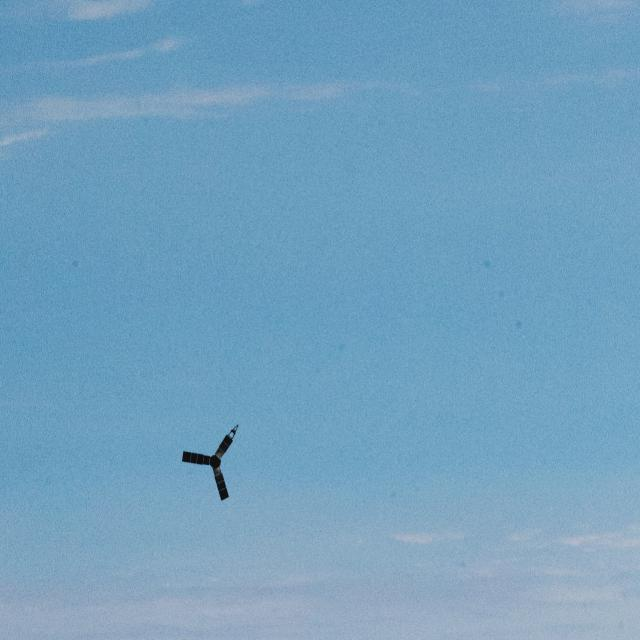satellite: (160, 425, 262, 511)
